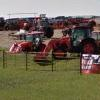Tractor: (39, 19, 98, 57)
